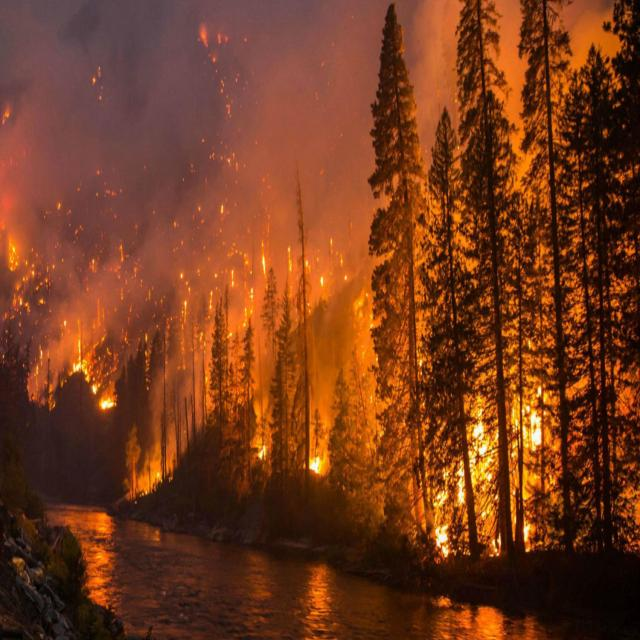fire: (428, 408, 548, 558), (68, 343, 127, 412), (304, 448, 342, 484), (248, 436, 284, 464)
